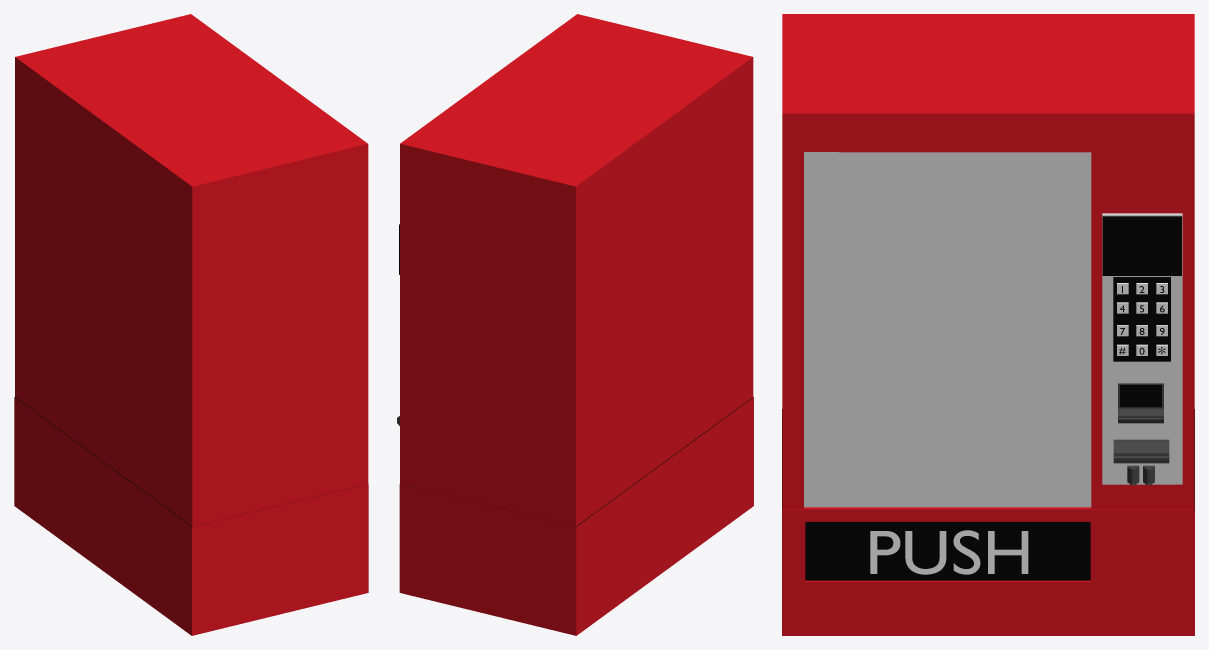
File: vendingmachine.fbx
The picture shows the model from 3 angles, left to right: view 1: azimuth 30°, elevation 25°; view 2: azimuth 150°, elevation 25°; view 3: azimuth 270°, elevation 25°; orthographic projection. The views are drawn at different scales.
Parts seen in each view (by area): view 1: Cube; view 2: Cube; view 3: Cube, maketransperent, can make transperent, Cube.001, Text.022, Cube.005, Text, Cube.007, Cube.002.
Part boxes in pixels (box(x1,y1,x2,y2)): Cube: box(14, 14, 368, 635); Cube: box(399, 14, 753, 635); Cube: box(782, 14, 1194, 635); maketransperent: box(804, 152, 1091, 507); can make transperent: box(805, 522, 1090, 580); Cube.001: box(1102, 213, 1182, 484); Text.022: box(1113, 277, 1170, 361); Cube.005: box(1102, 216, 1181, 275); Text: box(870, 530, 1028, 574); Cube.007: box(1118, 383, 1163, 423); Cube.002: box(1113, 439, 1169, 463).
Size of the model in its own units: 365 by 824 by 590.
